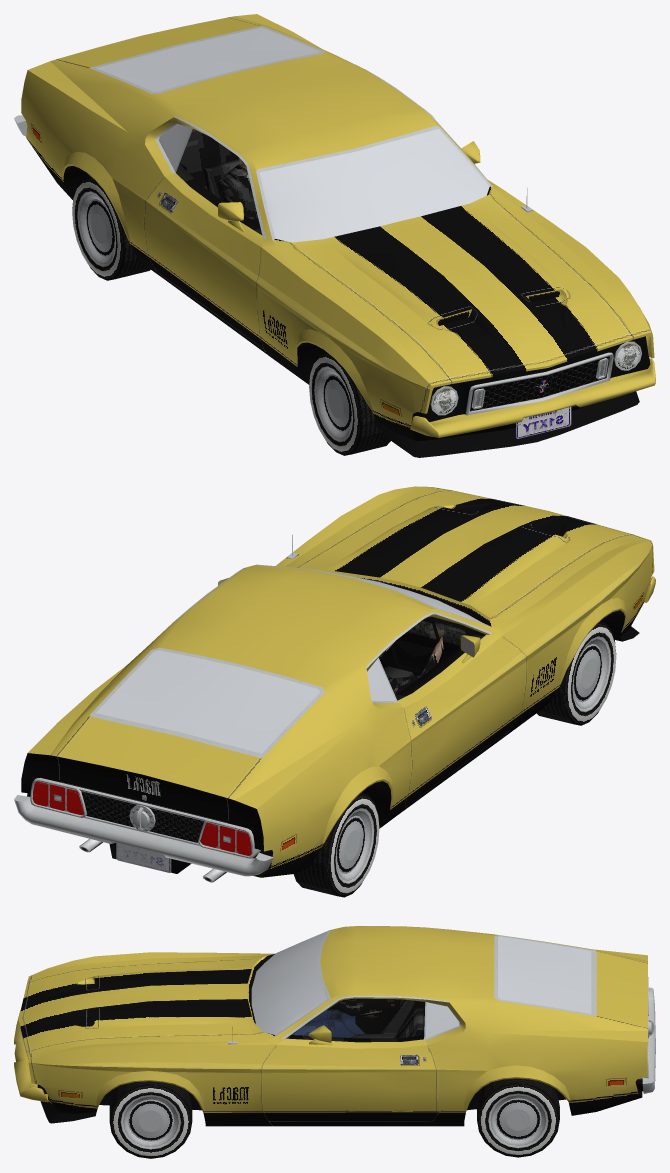
Rendered from MACH1_SIXTY.glb.
3 renders of one model, top to bottom at view 1: azimuth 30°, elevation 25°; view 2: azimuth 150°, elevation 25°; view 3: azimuth 270°, elevation 25°, orthographic. The views are drawn at different scales.
Visible parts, largest first — view 1: tree_node_6aa24, WHEEL_FRONT_LEFT_0x6abc4, WHEEL_BACK_LEFT_0x6ab6c; view 2: tree_node_6aa24, WHEEL_BACK_LEFT_0x6ab6c, WHEEL_FRONT_LEFT_0x6abc4, BRAKE_LIGHTS_OFF_0x6ac3c; view 3: tree_node_6aa24, WHEEL_BACK_RIGHT_0x6ab14, WHEEL_FRONT_RIGHT_0x6aabc.
Boxes of the visible parts, bbox=[...] form: tree_node_6aa24: bbox=[14, 14, 655, 457]; WHEEL_FRONT_LEFT_0x6abc4: bbox=[309, 351, 390, 455]; WHEEL_BACK_LEFT_0x6ab6c: bbox=[72, 176, 150, 280]; tree_node_6aa24: bbox=[14, 486, 655, 882]; WHEEL_BACK_LEFT_0x6ab6c: bbox=[293, 793, 379, 897]; WHEEL_FRONT_LEFT_0x6abc4: bbox=[536, 621, 616, 725]; BRAKE_LIGHTS_OFF_0x6ac3c: bbox=[32, 781, 251, 855]; tree_node_6aa24: bbox=[14, 926, 655, 1126]; WHEEL_BACK_RIGHT_0x6ab14: bbox=[477, 1078, 559, 1157]; WHEEL_FRONT_RIGHT_0x6aabc: bbox=[109, 1081, 192, 1158].
Size of the model in its own units: 1.9 by 1.28 by 4.84.
Materials: 2 (1 with a texture image).
